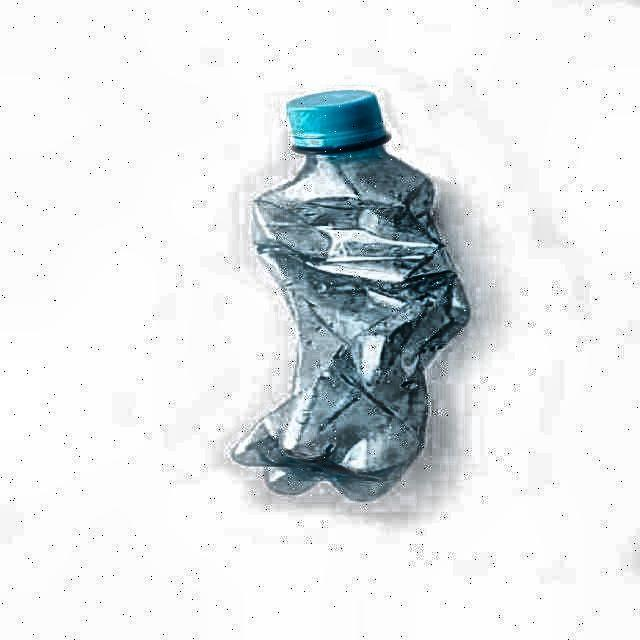plastic: (233, 88, 471, 505)
